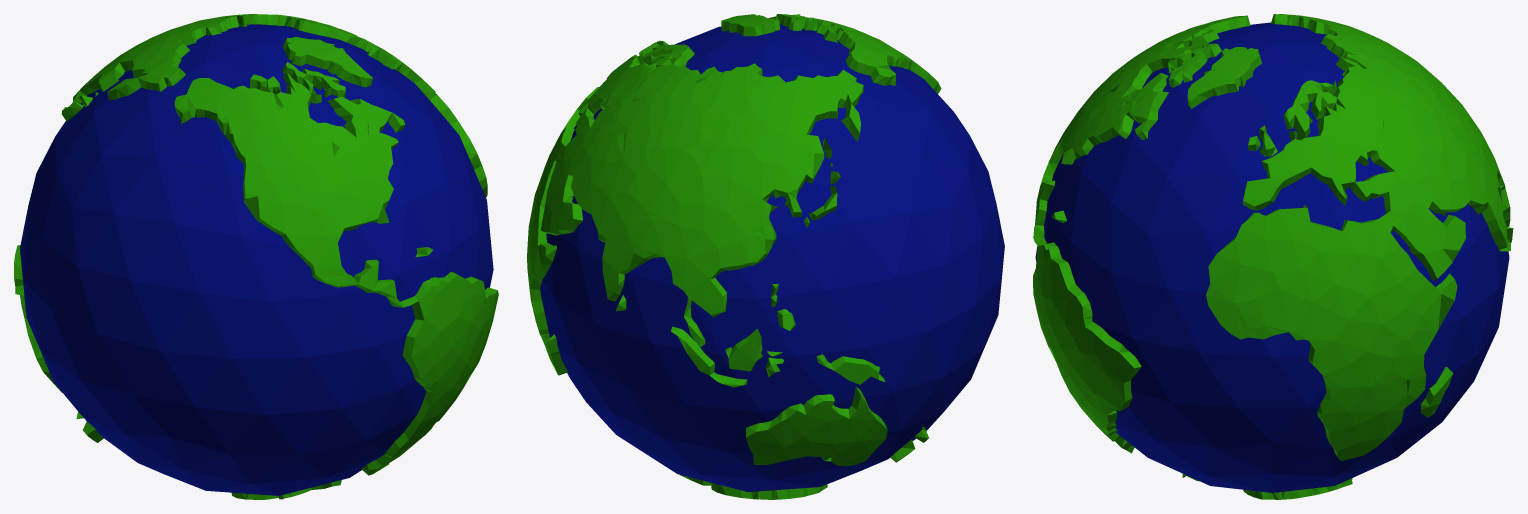
File: fullearth.glb
3 renders of one model, left to right at view 1: azimuth 30°, elevation 25°; view 2: azimuth 150°, elevation 25°; view 3: azimuth 270°, elevation 25°, orthographic.
Parts seen in each view (by area): view 1: Icosphere, Sphere; view 2: Icosphere, Sphere; view 3: Sphere, Icosphere.
Part boxes in pixels (x1,y1,x2,y2): Icosphere: [20, 24, 493, 495]; Sphere: [14, 14, 498, 499]; Icosphere: [540, 24, 1004, 491]; Sphere: [527, 14, 941, 499]; Sphere: [1033, 14, 1513, 499]; Icosphere: [1035, 22, 1509, 492].
Bounding box in the file's own units: 2.02 × 2.05 × 2.03.
